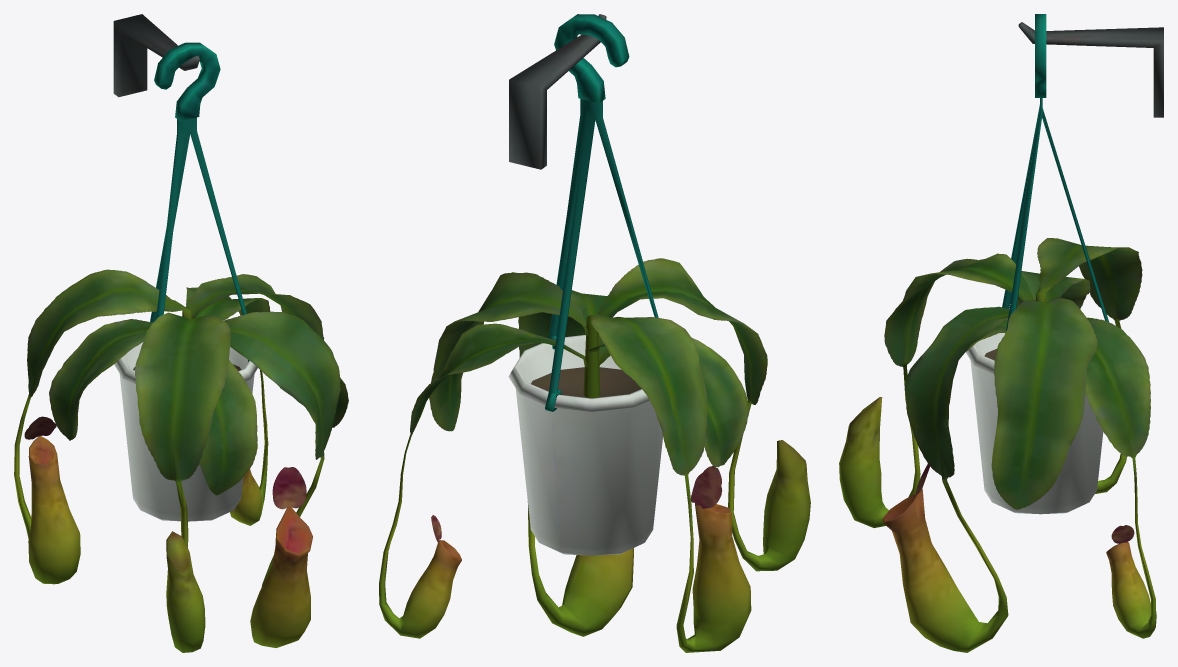
The picture shows the model from 3 angles, left to right: view 1: azimuth 30°, elevation 25°; view 2: azimuth 150°, elevation 25°; view 3: azimuth 270°, elevation 25°; orthographic projection. The views are drawn at different scales.
Size of the model in its own units: 6.31 by 12.27 by 5.94.
Materials: 2 (2 with a texture image).
